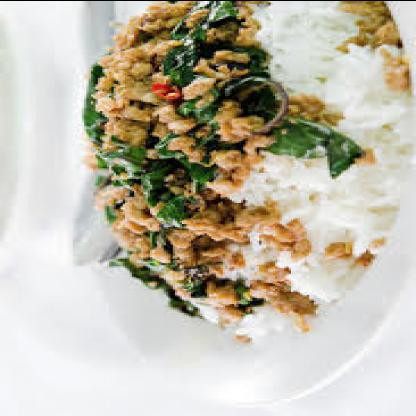Basil Rice: (47, 1, 414, 368)
